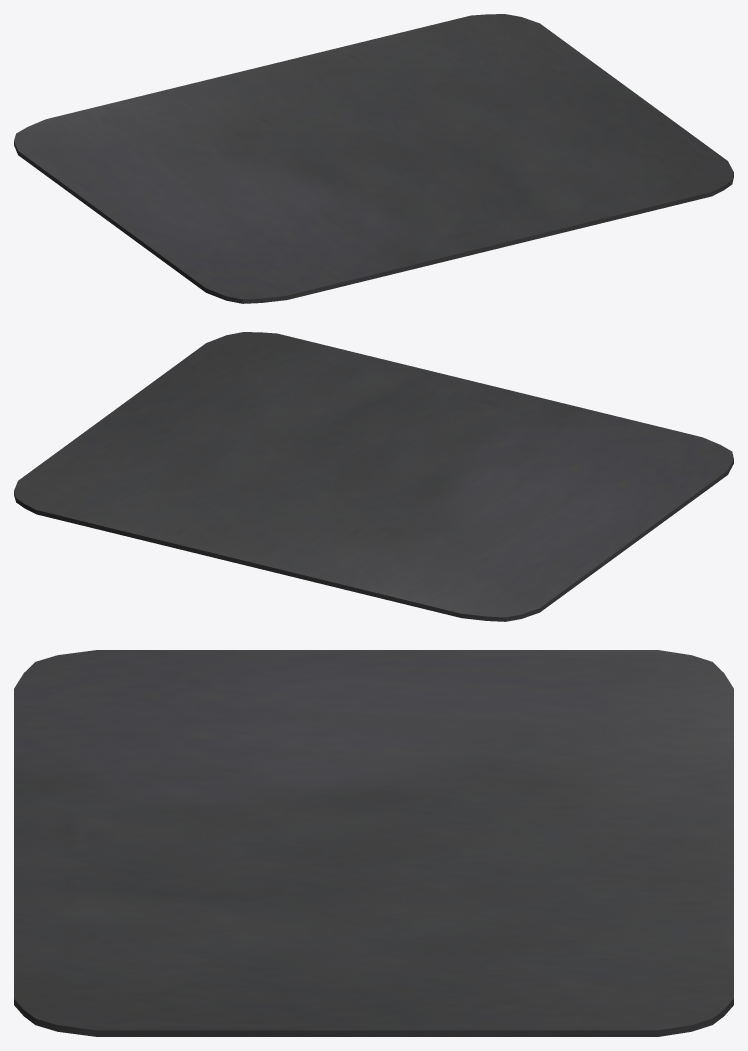
Rendered from Mouse Pad_lod1.fbx.
3 views of the same model, one above another, from view 1: azimuth 30°, elevation 25°; view 2: azimuth 150°, elevation 25°; view 3: azimuth 270°, elevation 25° (orthographic). The views are drawn at different scales.
Parts seen in each view (by area): view 1: Mouse_Pad; view 2: Mouse_Pad; view 3: Mouse_Pad.
Part boxes in pixels (<box>): Mouse_Pad: <box>14,14,733,303</box>; Mouse_Pad: <box>14,332,733,621</box>; Mouse_Pad: <box>14,650,733,1036</box>.
Size of the model in its own units: 2.5 by 0.0203 by 2.
